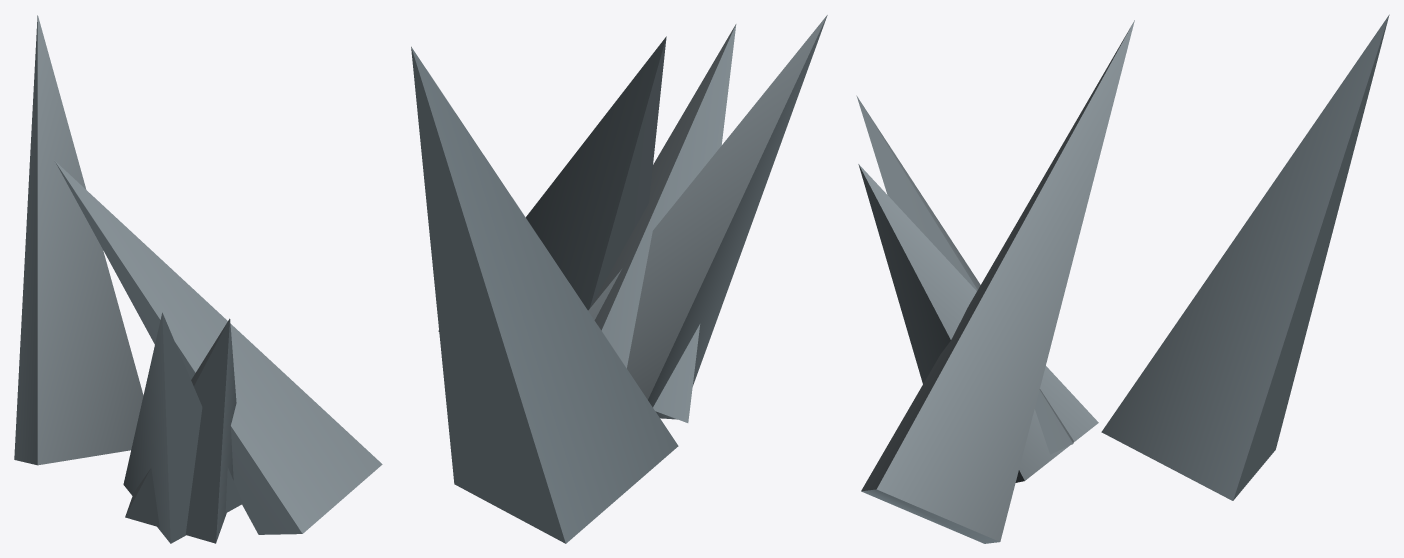
File: iceshard_lod1.glb
3 views of the same model, side by side, from view 1: azimuth 30°, elevation 25°; view 2: azimuth 150°, elevation 25°; view 3: azimuth 270°, elevation 25° (orthographic). The views are drawn at different scales.
Parts seen in each view (by area): view 1: v1, v0; view 2: v1, v0; view 3: v0, v1.
Boxes of the visible parts, x1=… form: v1: x1=14, y1=15, x2=242, y2=543; v0: x1=54, y1=160, x2=382, y2=543; v1: x1=411, y1=15, x2=827, y2=543; v0: x1=438, y1=24, x2=736, y2=422; v0: x1=858, y1=20, x2=1134, y2=543; v1: x1=856, y1=14, x2=1389, y2=500.
Size of the model in its own units: 0.2427 by 0.3952 by 0.3834.
